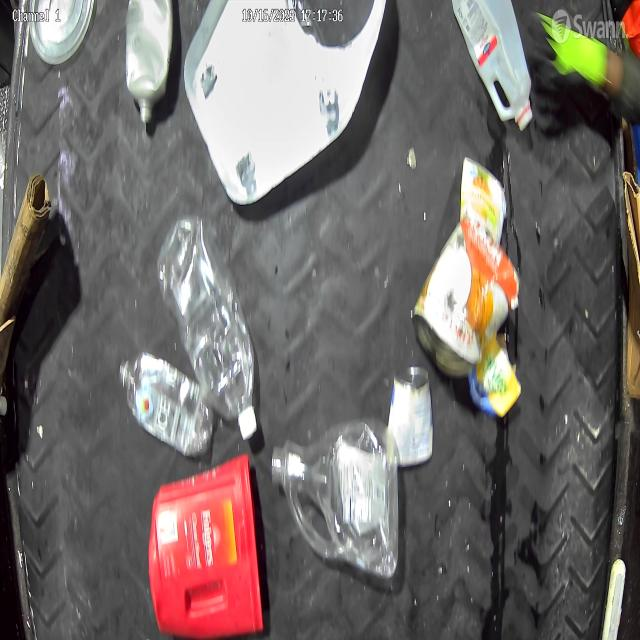can: (388, 365, 438, 482)
milk_jug: (442, 0, 533, 139)
non_white_jug: (146, 452, 268, 639)
plastic_bottle: (160, 217, 259, 438), (271, 423, 399, 584), (115, 351, 217, 473)
